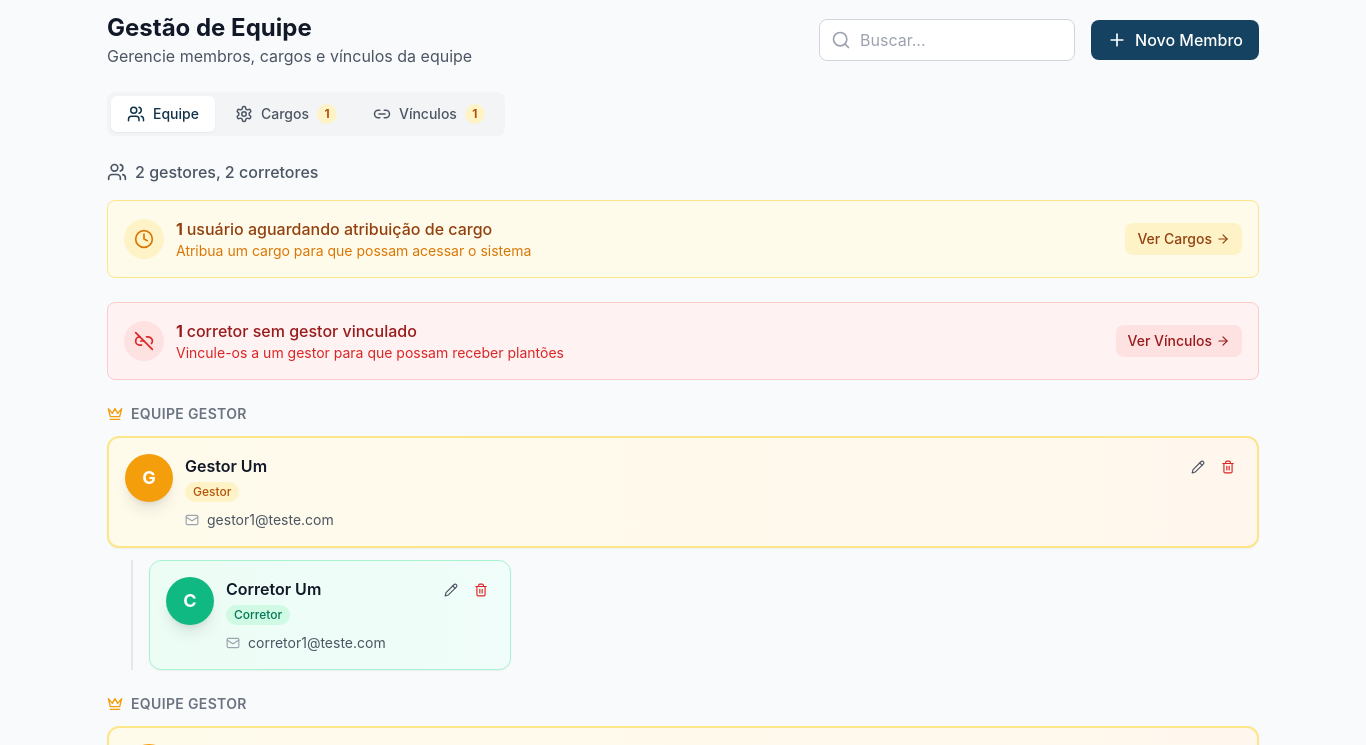
it: GestaoEquipe - Visão do Diretor › deve navegar entre abas ao clicar
Clicar na aba Cargos
Click the text "Cargos": x=285, y=114 [261, 104, 309, 124]
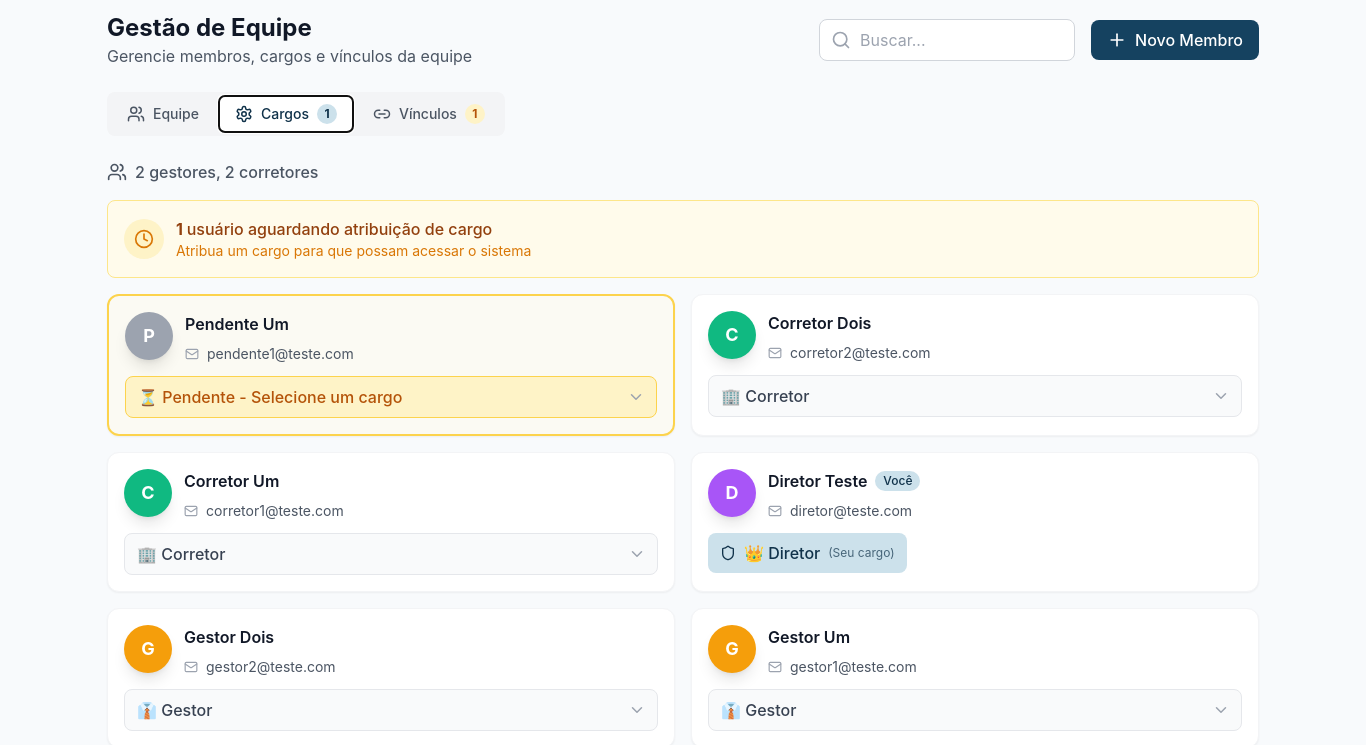
Check: the dropdown below "pendente1@teste.com" is shown, box [125, 376, 657, 418]
